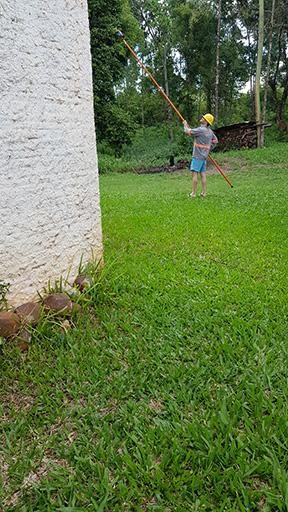Vara_Manobra: (122, 38, 233, 188)
